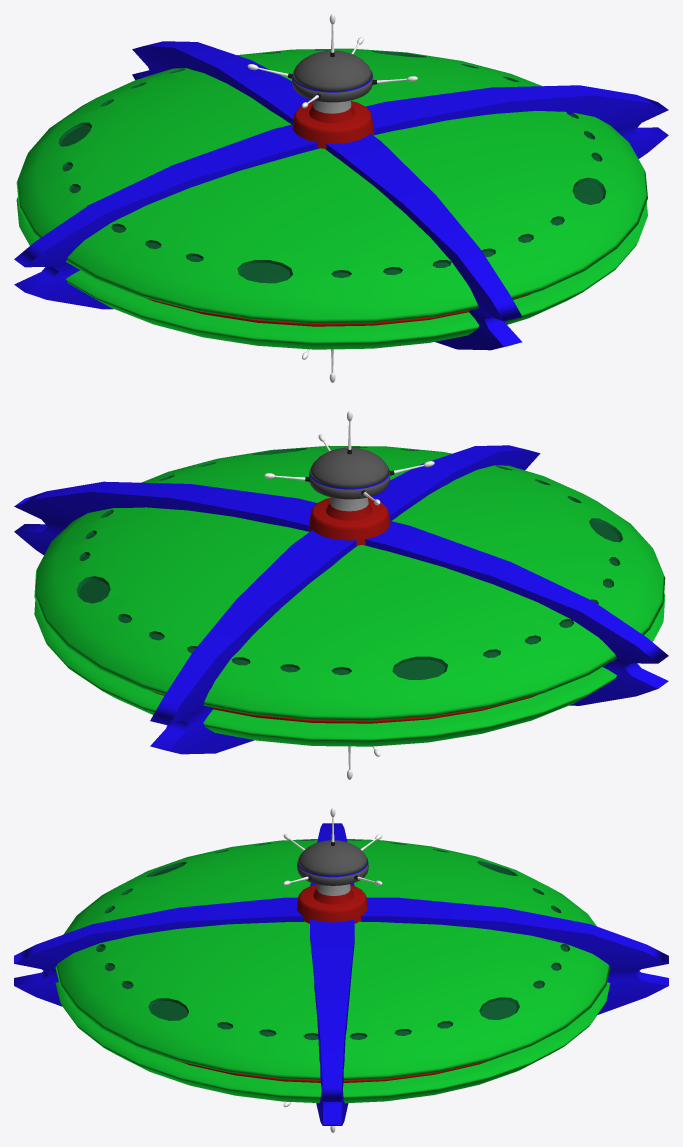
Rendered from Mothership.FBX.
The picture shows the model from 3 angles, top to bottom: view 1: azimuth 30°, elevation 25°; view 2: azimuth 150°, elevation 25°; view 3: azimuth 270°, elevation 25°; orthographic projection. The views are drawn at different scales.
Visible parts, largest first — view 1: ship, Cylinder03, Cylinder04, Sphere02, Cylinder01, Cylinder02; view 2: ship, Cylinder03, Cylinder04, Sphere02, Cylinder01, Cylinder02; view 3: ship, Cylinder04, Cylinder03, Sphere02, Cylinder01, Cylinder02.
Boxes of the visible parts, left/top/right/bottom form: ship: left=16, top=48, right=647, bottom=349; Cylinder03: left=14, top=85, right=668, bottom=309; Cylinder04: left=132, top=41, right=522, bottom=350; Sphere02: left=291, top=50, right=373, bottom=102; Cylinder01: left=292, top=101, right=374, bottom=148; Cylinder02: left=309, top=100, right=354, bottom=123; ship: left=34, top=445, right=665, bottom=746; Cylinder03: left=14, top=481, right=668, bottom=705; Cylinder04: left=150, top=445, right=540, bottom=754; Sphere02: left=309, top=447, right=390, bottom=499; Cylinder01: left=308, top=497, right=390, bottom=545; Cylinder02: left=326, top=497, right=372, bottom=520; ship: left=55, top=839, right=610, bottom=1103; Cylinder04: left=14, top=897, right=668, bottom=1014; Cylinder03: left=310, top=823, right=354, bottom=1125; Sphere02: left=297, top=840, right=368, bottom=885; Cylinder01: left=297, top=884, right=367, bottom=923; Cylinder02: left=313, top=884, right=353, bottom=904.
Size of the model in its own units: 154 by 84.23 by 154.
